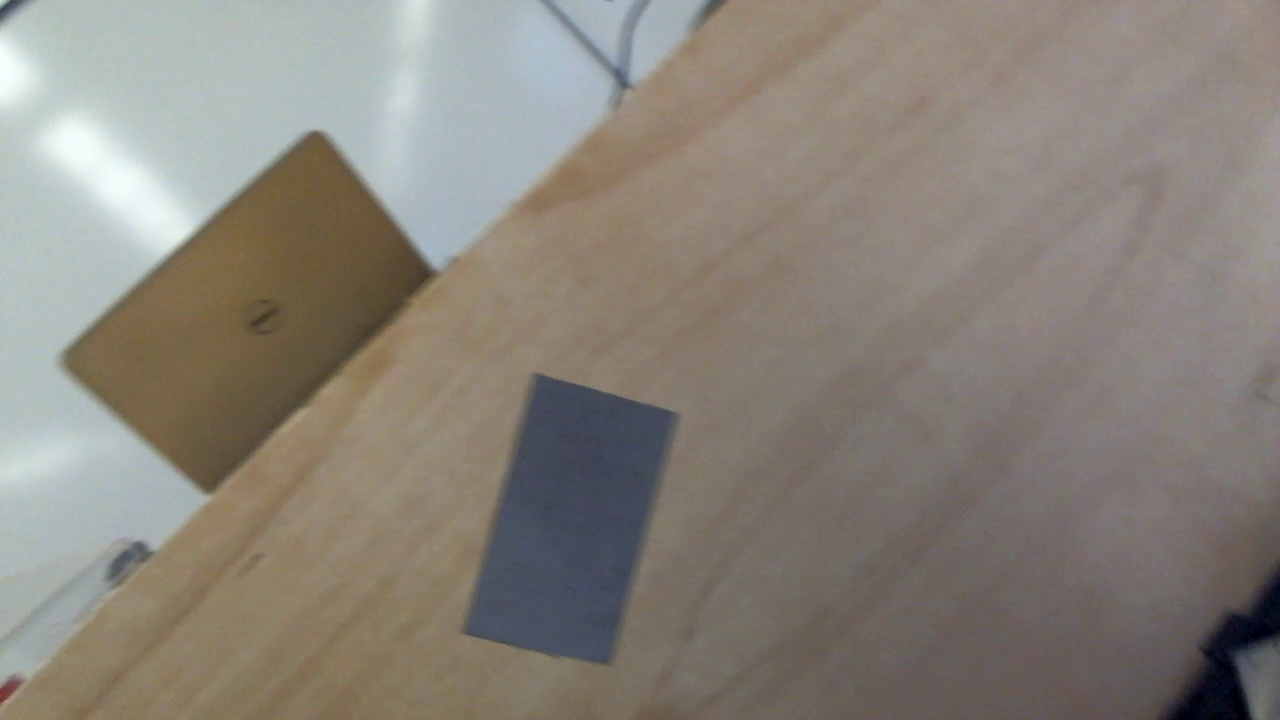Tape: (457, 372, 681, 666)
